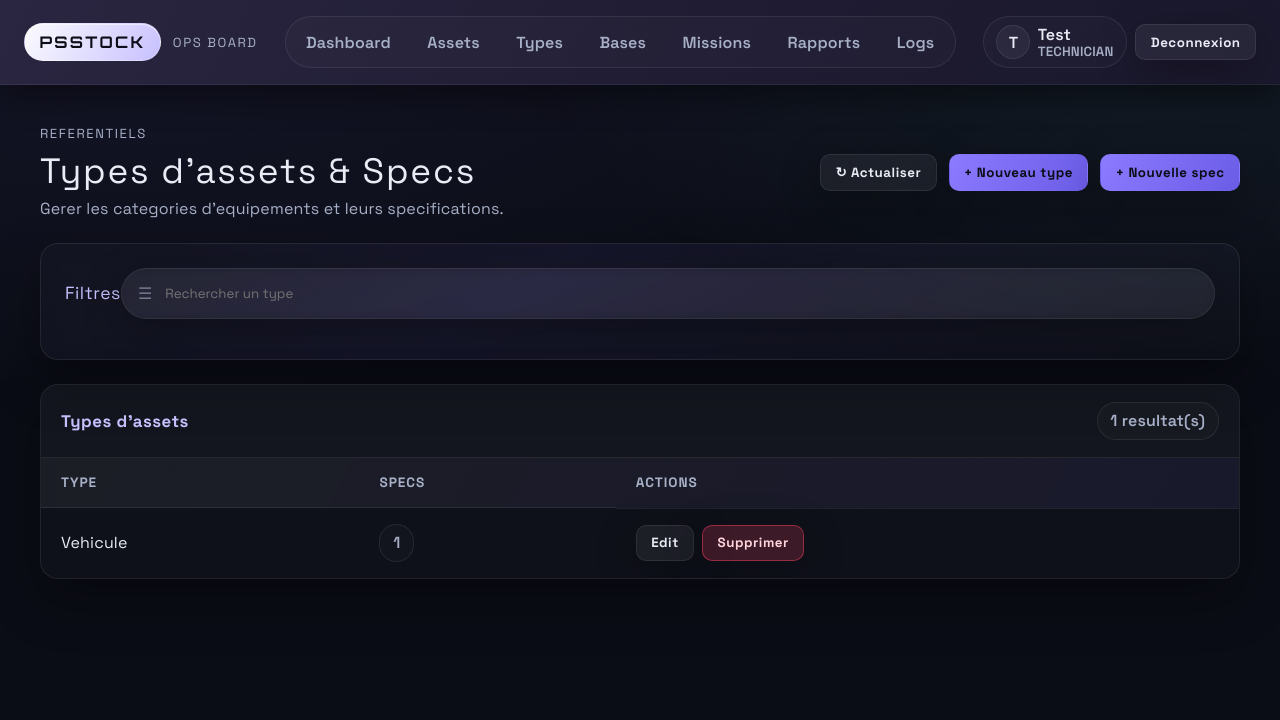
Scenario: AssetTypesPage – technician role › opens create modal on button click
Click the button "+ Nouveau type".
click(1018, 172)  # box [949,154,1088,191]
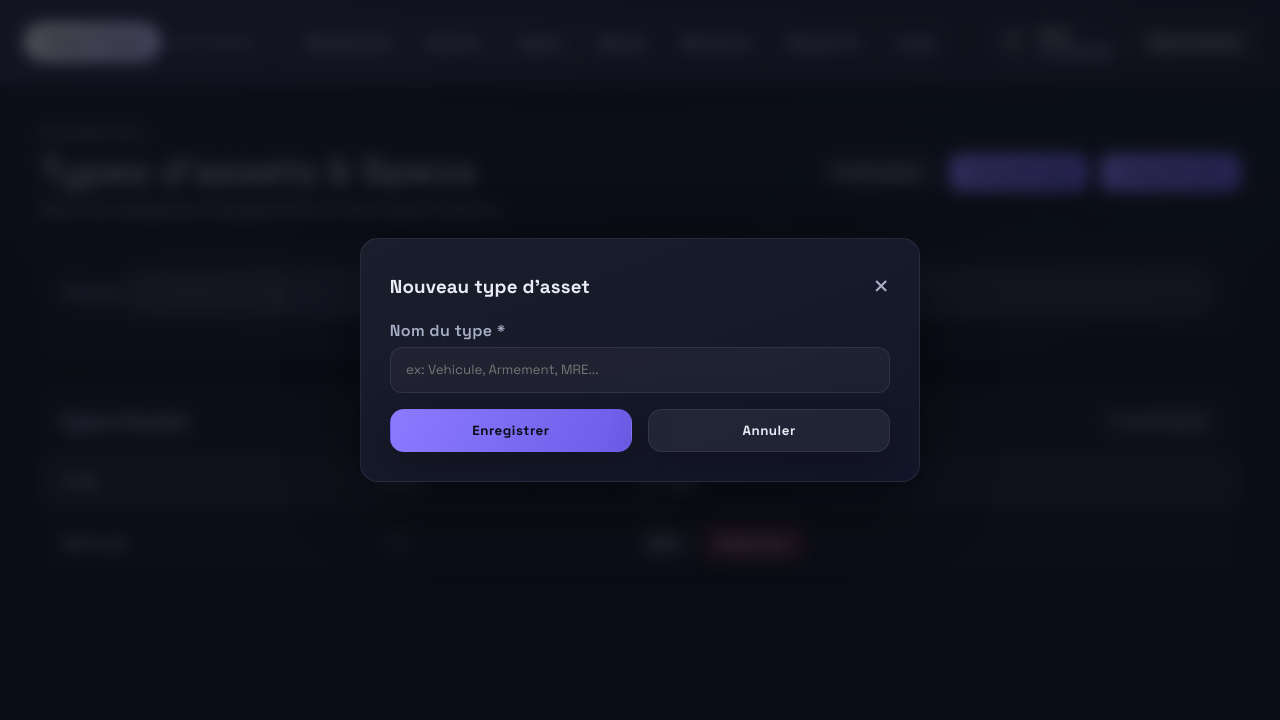
Expected: the field with placeholder "ex: Vehicule, Armement, MRE..." is shown, [390,347,890,393]
